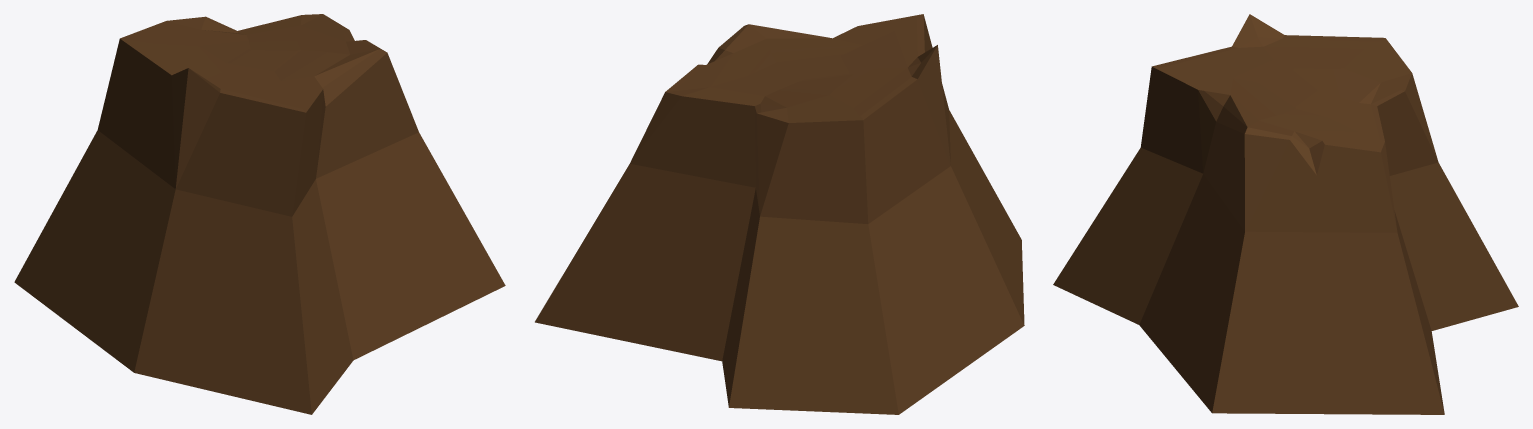
The model's file is SM_Tree_Pine_Stump_A.fbx.
The picture shows the model from 3 angles, left to right: view 1: azimuth 30°, elevation 25°; view 2: azimuth 150°, elevation 25°; view 3: azimuth 270°, elevation 25°; orthographic projection. The views are drawn at different scales.
Visible parts, largest first — view 1: tree-pine-stump-a; view 2: tree-pine-stump-a; view 3: tree-pine-stump-a.
Part boxes in pixels (bbox=[...]): tree-pine-stump-a: bbox=[14, 14, 505, 414]; tree-pine-stump-a: bbox=[535, 14, 1024, 414]; tree-pine-stump-a: bbox=[1053, 14, 1518, 414].
Size of the model in its own units: 0.8809 by 0.6255 by 1.01.
